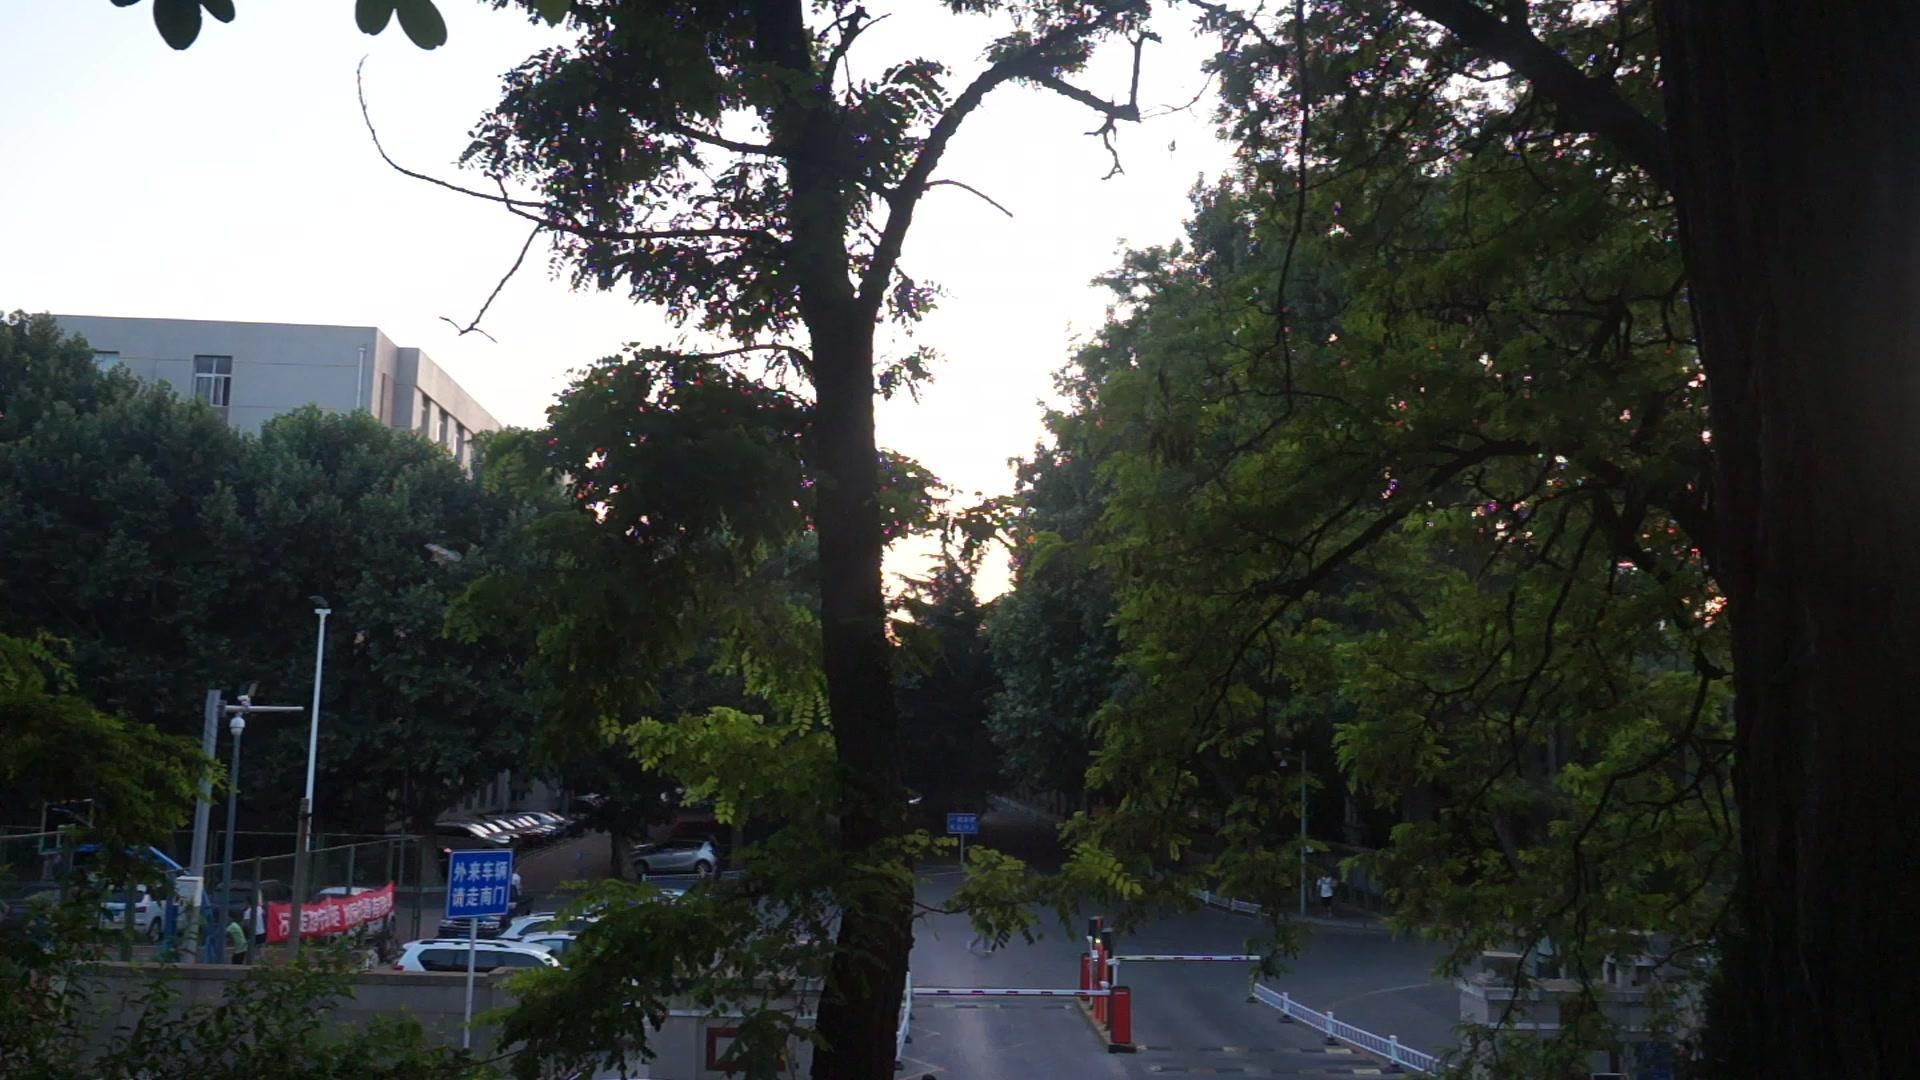UAV: (425, 545, 464, 564)
